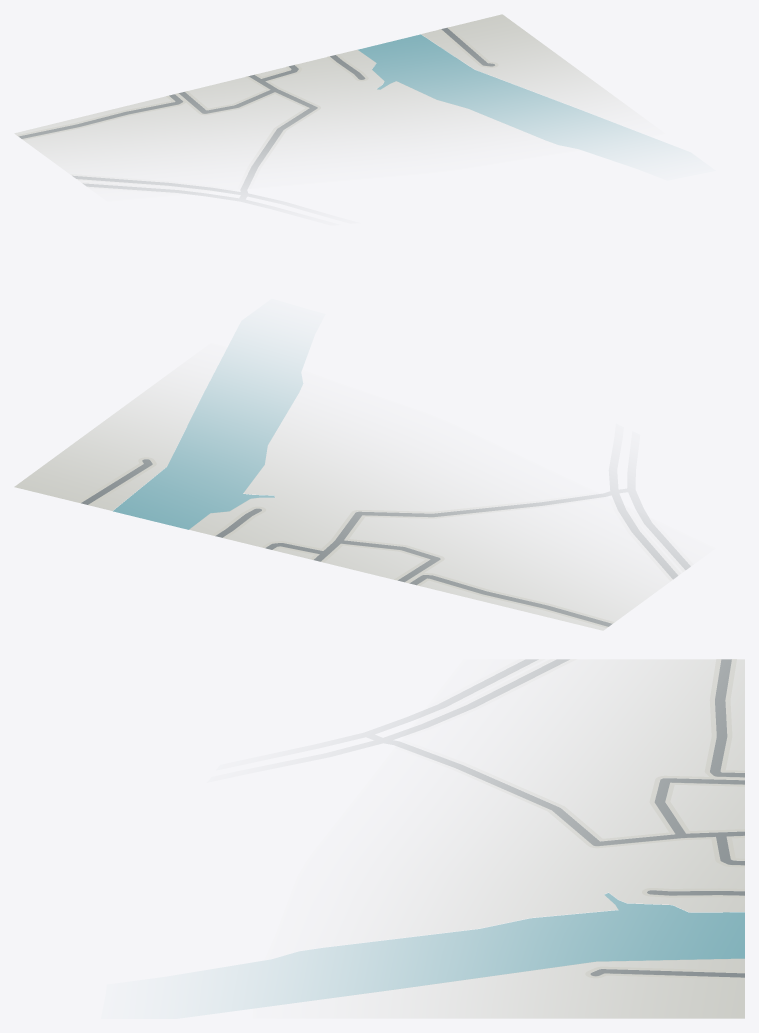
The picture shows the model from 3 angles, top to bottom: view 1: azimuth 30°, elevation 25°; view 2: azimuth 150°, elevation 25°; view 3: azimuth 270°, elevation 25°; orthographic projection. The views are drawn at different scales.
Visible parts, largest first — view 1: city; view 2: city; view 3: city.
Part boxes in pixels (x1,y1,x2,y2): city: (14, 14, 663, 198); city: (14, 338, 692, 630); city: (226, 659, 744, 1018).
Bounding box in the file's own units: 500 × 0.4 × 430.
